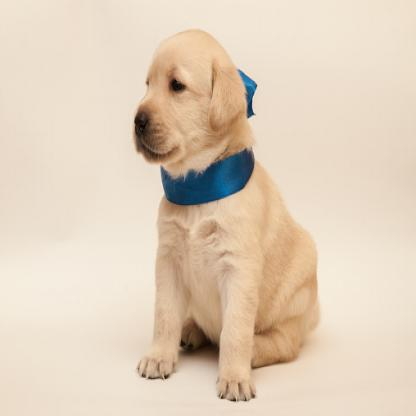dog: (132, 32, 319, 401)
